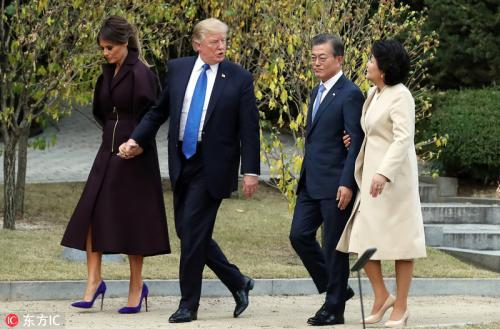up: (122, 15, 265, 326), (55, 12, 166, 317), (333, 36, 429, 329), (286, 28, 367, 329)
